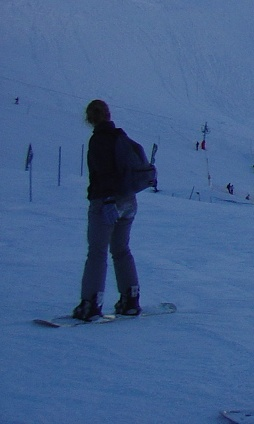person: (65, 95, 147, 322)
